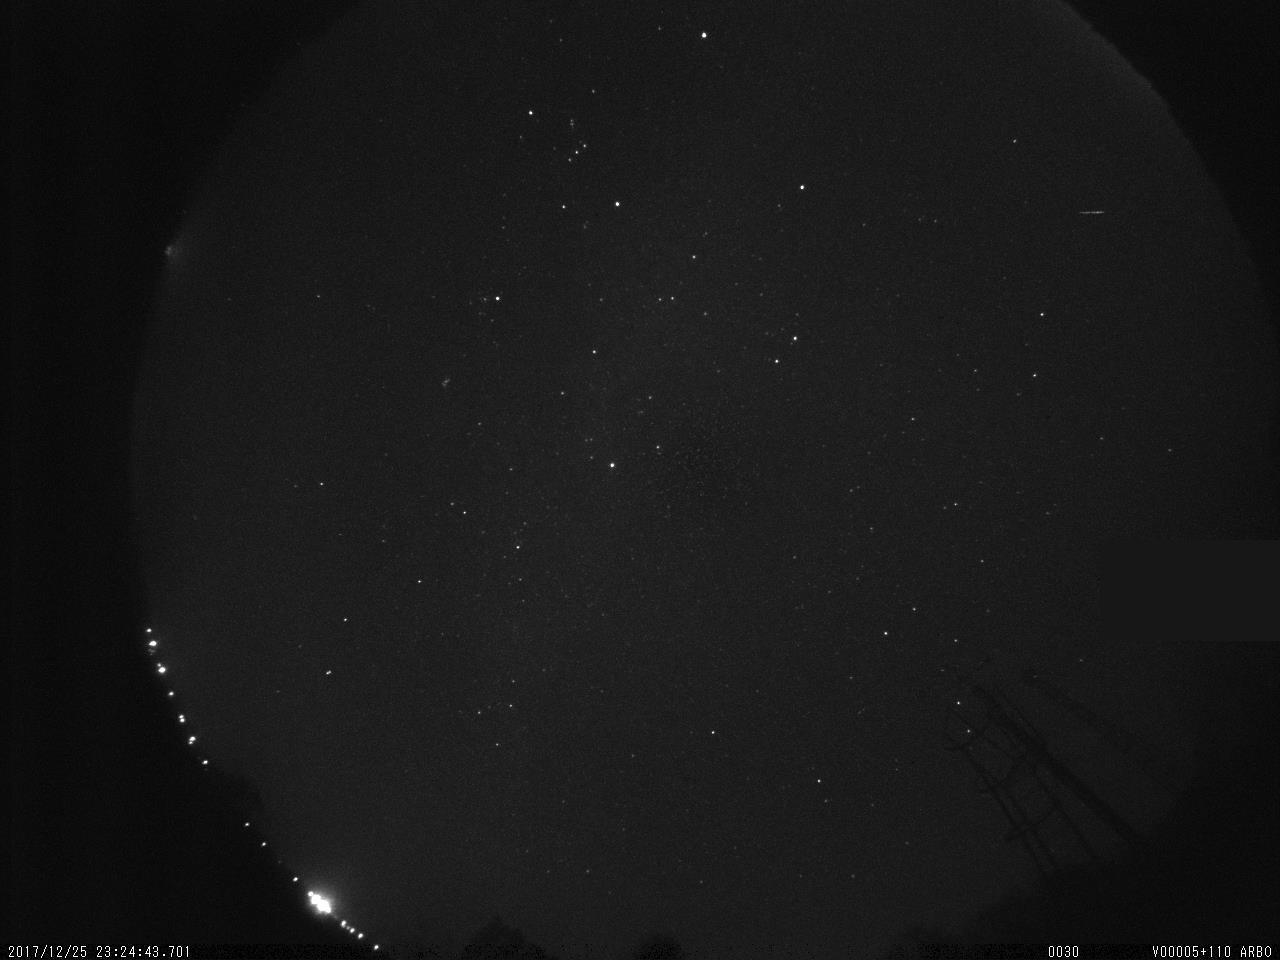meteor: (1055, 176, 1128, 245)
